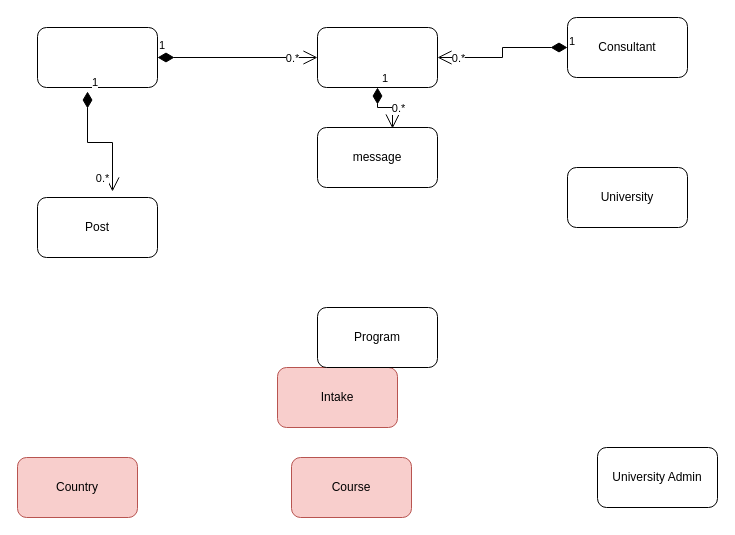
Some shapes in this 735 by 535 pixel diagram are drawn without their labels. The shapes that lost their labels are listed below. From the top down, each one's centre as x and y in pixels, then its label:
At point 97,57: "Student".
At point 377,57: "Chat".
